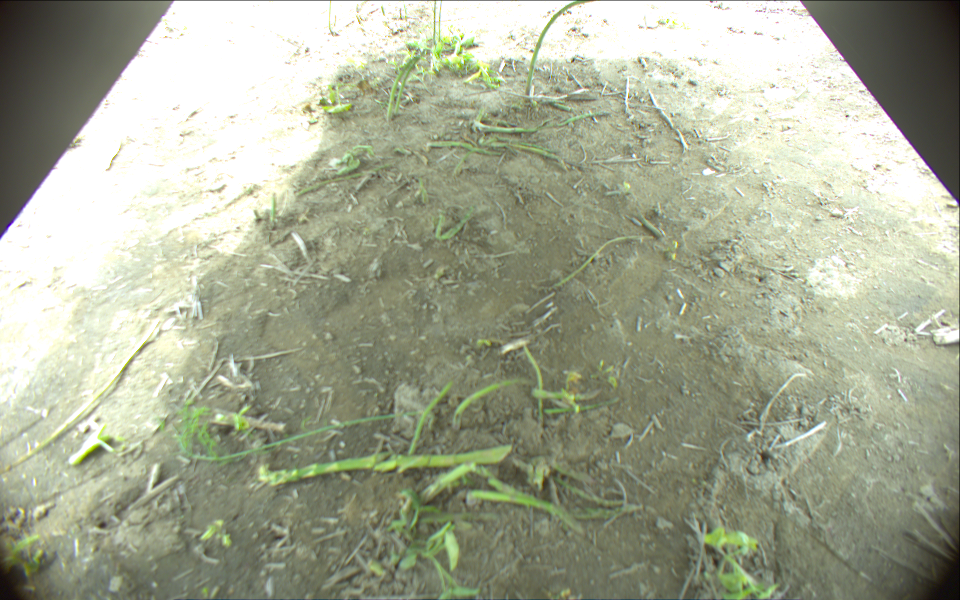aspa: (1, 321, 165, 476), (174, 406, 425, 462), (255, 440, 512, 487), (523, 1, 598, 98), (420, 461, 534, 513), (463, 489, 584, 535), (457, 376, 534, 429), (410, 378, 452, 456), (481, 138, 576, 167), (523, 345, 550, 442), (386, 51, 422, 118), (392, 53, 422, 115), (546, 398, 619, 416), (473, 119, 535, 137), (429, 139, 499, 154), (532, 387, 600, 401), (430, 1, 437, 45), (325, 1, 333, 33), (437, 1, 442, 43)
